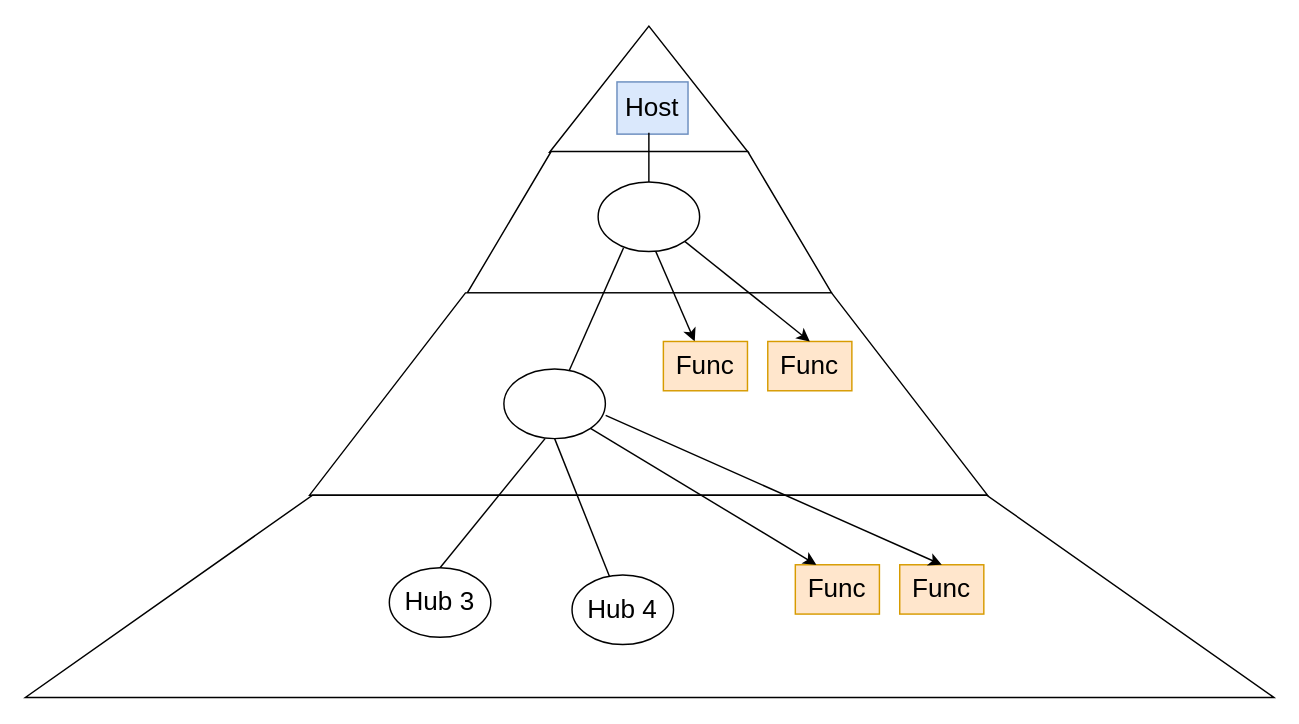
Some shapes in this 1299 by 724 pixel diagram are drawn without their labels. Each missing label, with the centre of its shape:
Hub 1: the point at 648,216
Hub 2: the point at 553,403
